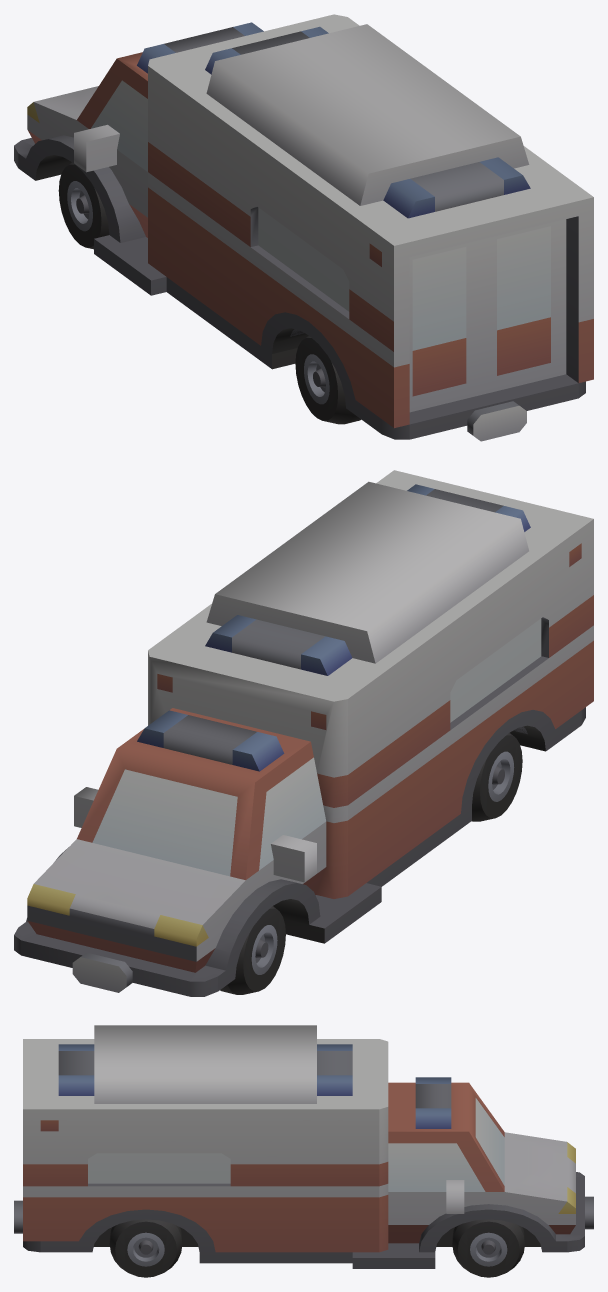
The model's file is ambulance.glb.
The picture shows the model from 3 angles, top to bottom: view 1: azimuth 30°, elevation 25°; view 2: azimuth 150°, elevation 25°; view 3: azimuth 270°, elevation 25°; orthographic projection. The views are drawn at different scales.
Visible parts, largest first — view 1: body, door-right, door-left, wheel-back-left, wheel-front-left; view 2: body, wheel-front-left, wheel-back-left; view 3: body, wheel-back-right, wheel-front-right.
Boxes of the visible parts, x1,y1,x2,y2 form: body: (14,14,593,441); door-right: (481,219,566,394); door-left: (409,240,481,412); wheel-back-left: (295,335,361,424); wheel-front-left: (58,162,109,249); body: (14,470,593,996); wheel-front-left: (220,906,285,994); wheel-back-left: (472,733,522,821); body: (14,1025,593,1268); wheel-back-right: (109,1219,182,1277); wheel-front-right: (452,1219,524,1277).
Bounding box in the file's own units: 1.9 × 2.15 × 5.72.
1 material, 1 textured.
